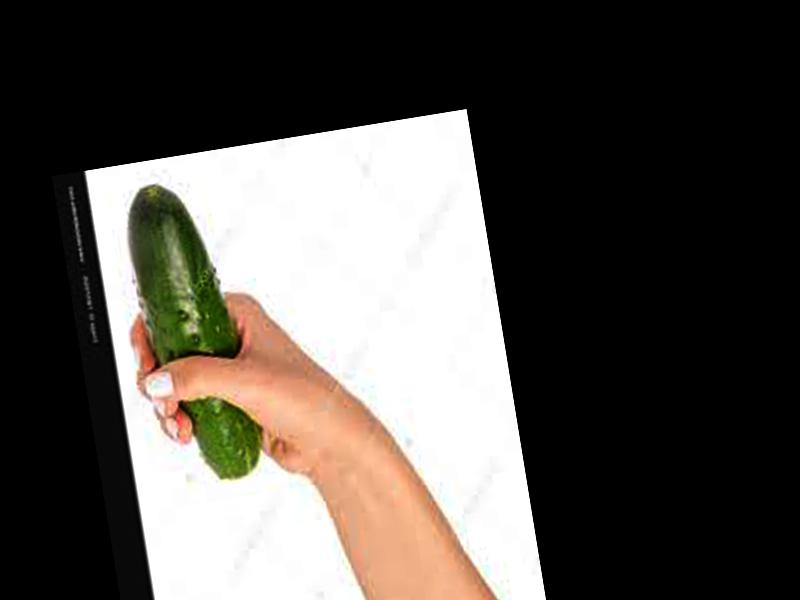Cucumber: (119, 171, 265, 487)
